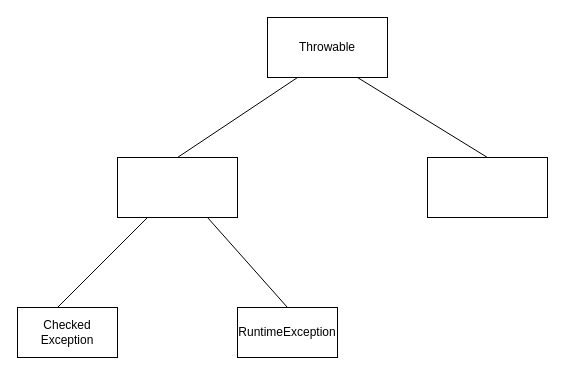
Some shapes in this 565 by 375 pixel diagram are drawn without their labels. The shapes that lost their labels are listed below. From the top down, each one's centre as x and y in pixels, then its label:
At [177,187]: "Exception".
At [487,187]: "Error".
